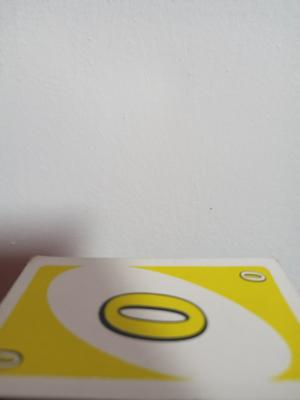num_0: (81, 280, 234, 362)
yellow: (15, 314, 52, 352)
